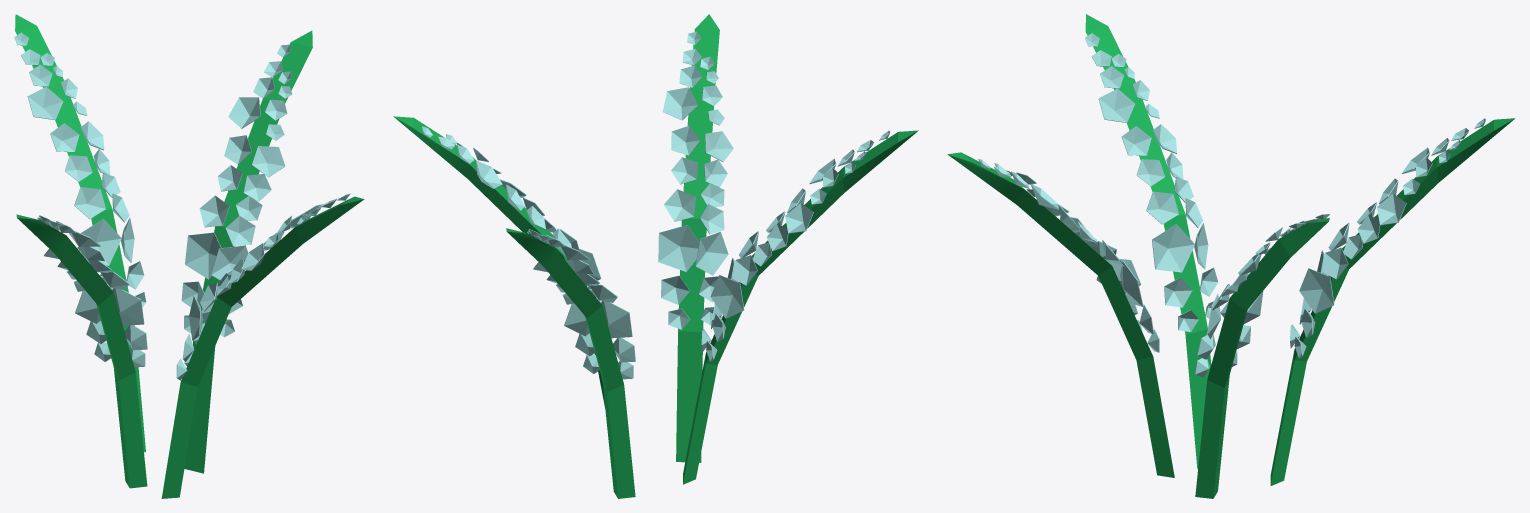
The model's file is Plant_c_01.fbx.
3 renders of one model, left to right at view 1: azimuth 30°, elevation 25°; view 2: azimuth 150°, elevation 25°; view 3: azimuth 270°, elevation 25°, orthographic. The views are drawn at different scales.
Parts seen in each view (by area): view 1: Plant_c_01_LOD0; view 2: Plant_c_01_LOD0; view 3: Plant_c_01_LOD0.
Part boxes in pixels (x1,y1,x2,y2): Plant_c_01_LOD0: [14, 14, 364, 498]; Plant_c_01_LOD0: [393, 14, 918, 498]; Plant_c_01_LOD0: [947, 14, 1514, 498].
Size of what is drawn, in the model's own units: 7.15 by 5.83 by 8.29.
